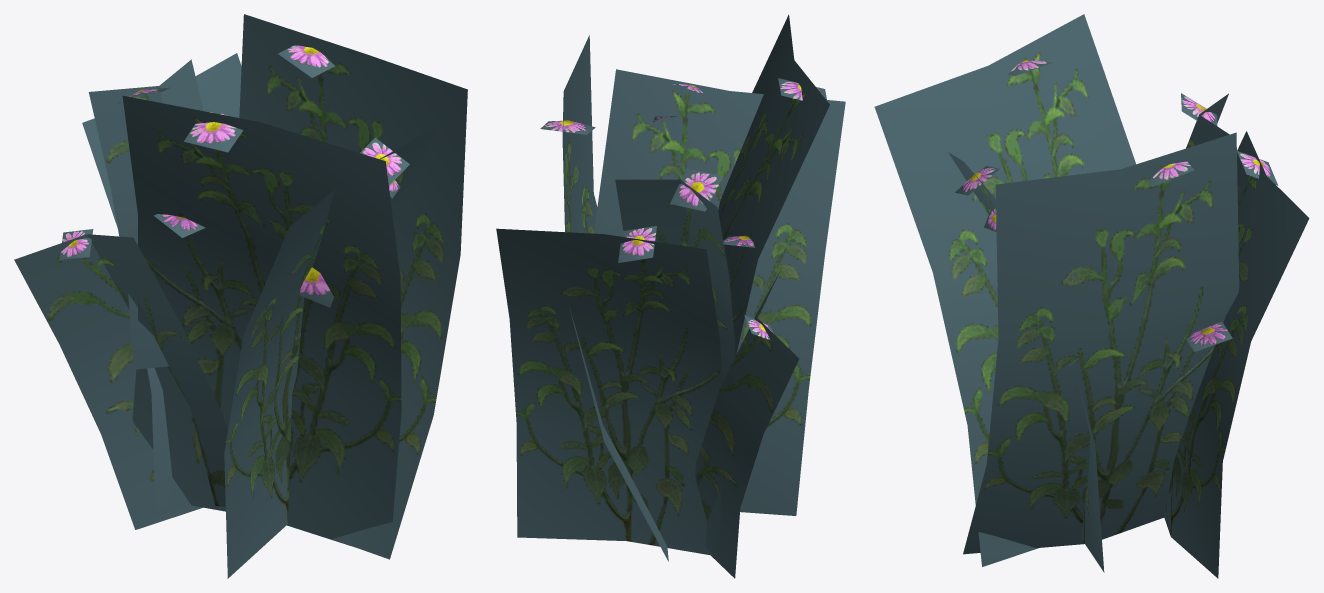
The model's file is 4006_Item_hua_4.FBX.
3 views of the same model, side by side, from view 1: azimuth 30°, elevation 25°; view 2: azimuth 150°, elevation 25°; view 3: azimuth 270°, elevation 25° (orthographic). The views are drawn at different scales.
Visible parts, largest first — view 1: 4006_Item_hua_4; view 2: 4006_Item_hua_4; view 3: 4006_Item_hua_4.
Boxes of the visible parts, left/top/right/bottom form: 4006_Item_hua_4: left=14, top=14, right=467, bottom=578; 4006_Item_hua_4: left=496, top=14, right=845, bottom=578; 4006_Item_hua_4: left=874, top=14, right=1309, bottom=578.
Bounding box in the file's own units: 102 × 138 × 119.
